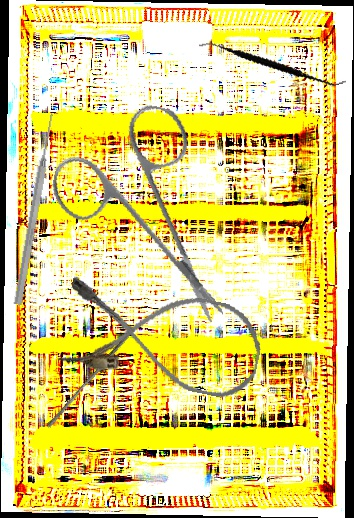Cannula: (55, 271, 269, 404)
Iris Scissors: (30, 87, 265, 325)
Pusher: (45, 323, 136, 432), (12, 112, 58, 306)
Spatula Surgical: (198, 10, 347, 117)
